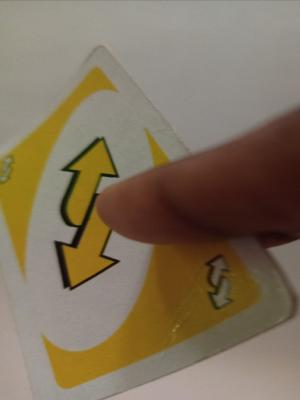yellow: (9, 136, 241, 332)
